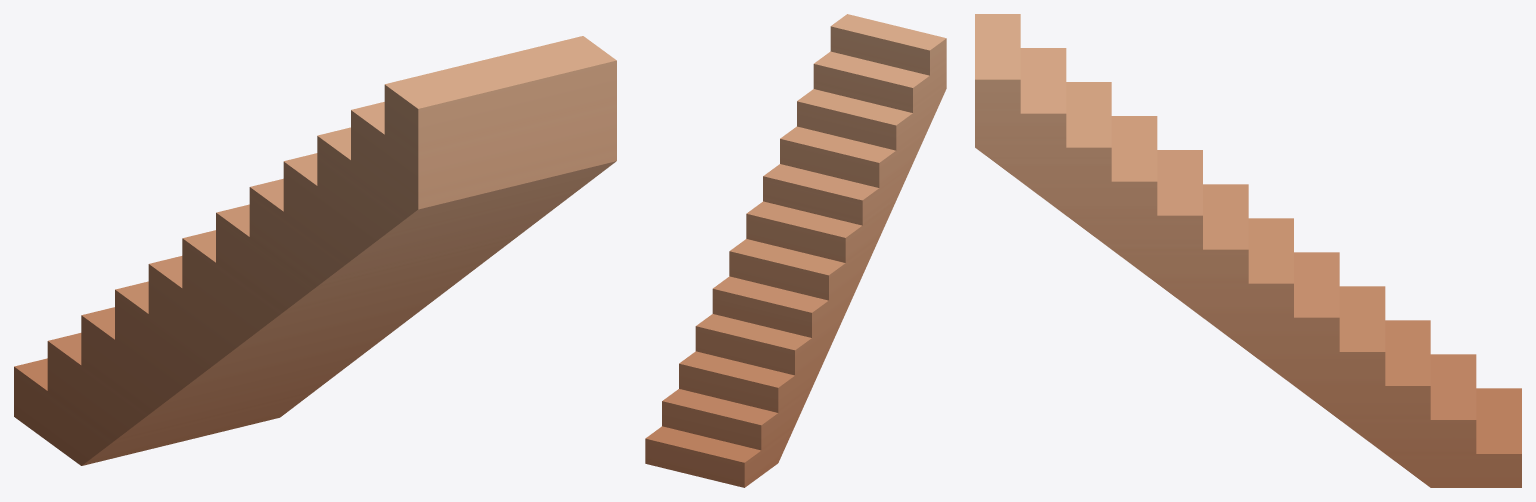
Rendered from stairs-stone.obj.
3 renders of one model, left to right at view 1: azimuth 30°, elevation 25°; view 2: azimuth 150°, elevation 25°; view 3: azimuth 270°, elevation 25°, orthographic. The views are drawn at different scales.
Parts seen in each view (by area): view 1: stairs-stone; view 2: stairs-stone; view 3: stairs-stone.
Part boxes in pixels (x1=…): stairs-stone: x1=14, y1=36, x2=616, y2=465; stairs-stone: x1=645, y1=14, x2=946, y2=487; stairs-stone: x1=975, y1=14, x2=1521, y2=487.
Bounding box in the file's own units: 0.2325 × 0.675 × 0.819.
1 material, 1 textured.
